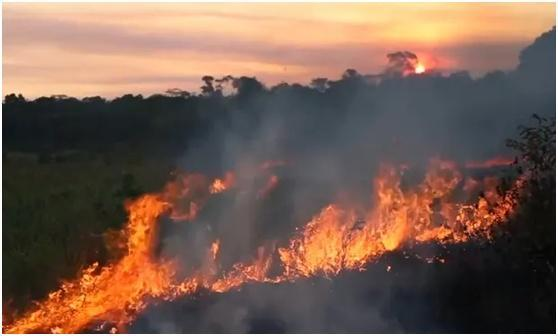fire: (3, 205, 287, 336), (260, 166, 527, 278), (352, 127, 525, 233), (106, 136, 263, 240)
